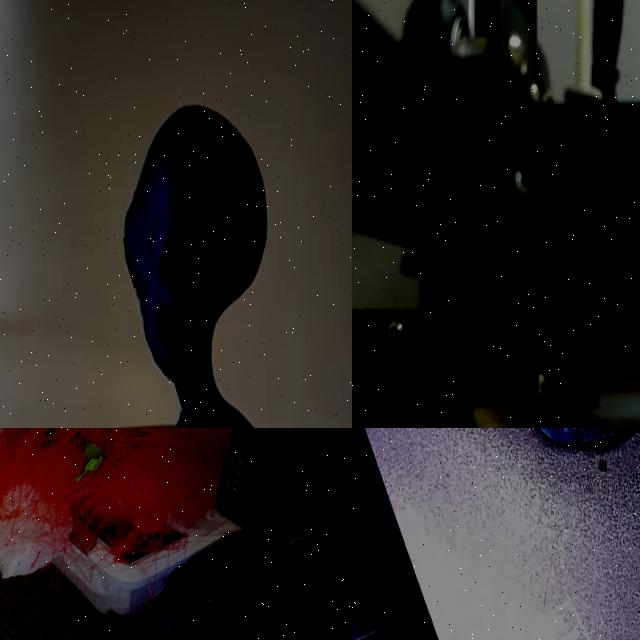spaghetti: (0, 428, 294, 622), (471, 376, 597, 428)
